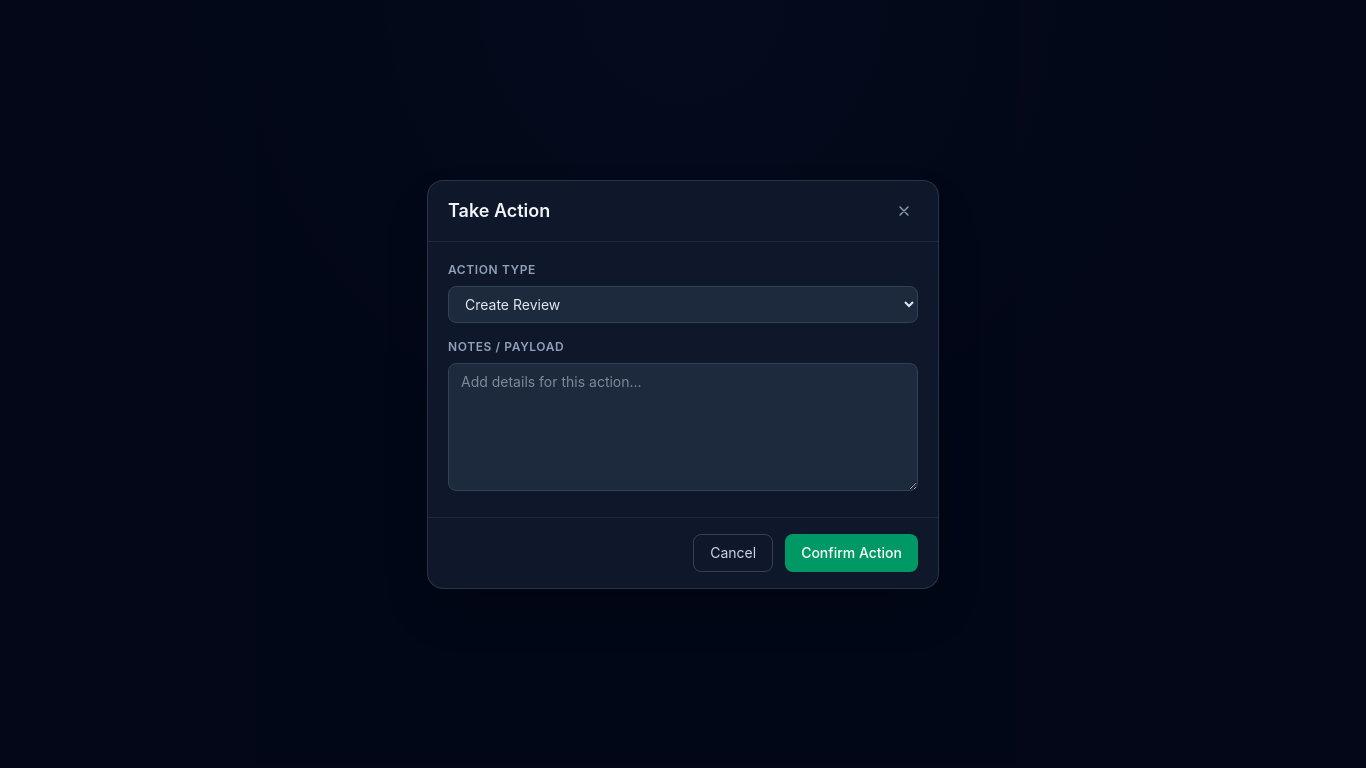
Test: ActionModal › shows an error message when submitAction rejects
Click the button "Confirm Action" at (852, 552), box [785,534,918,572]
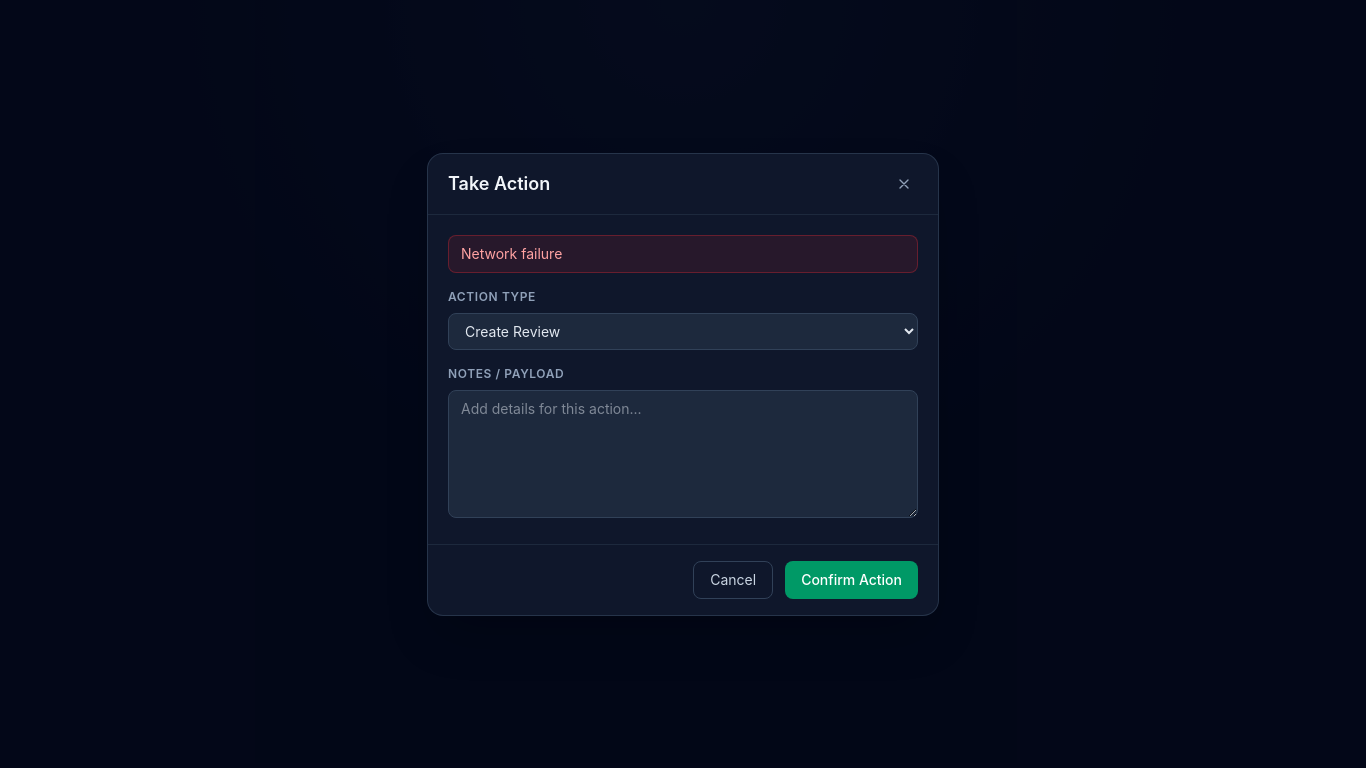
Now the text "Network failure" is shown, box [448,234,918,272]
